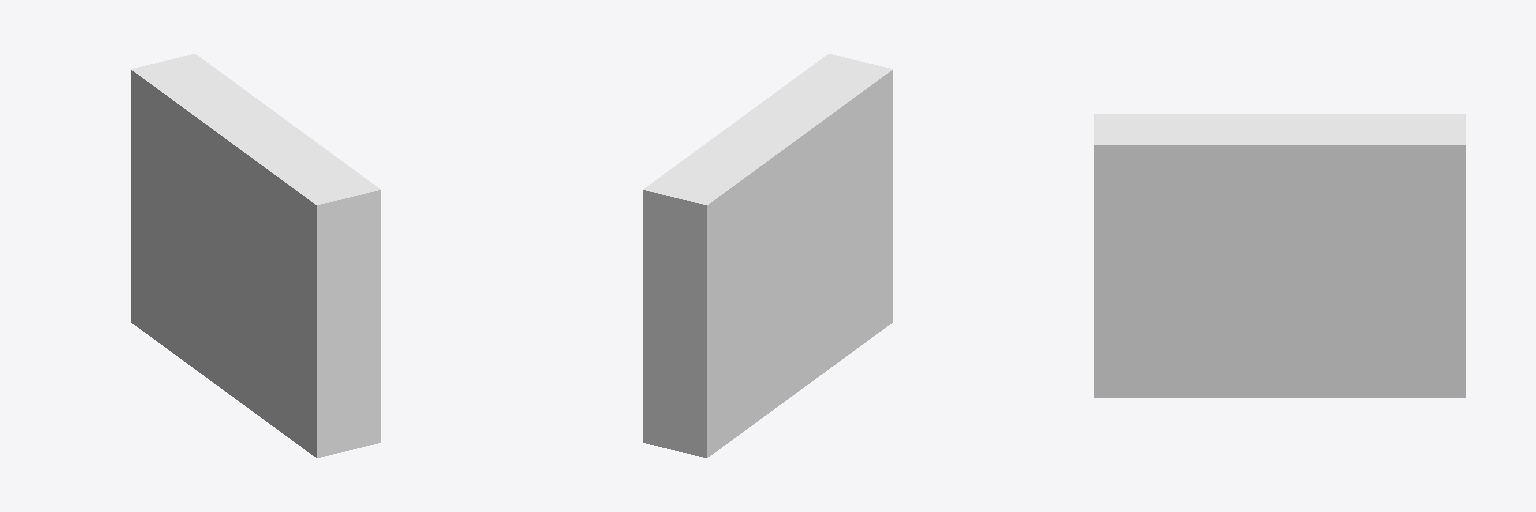
Rendered from nature-wallside.obj.
3 renders of one model, left to right at view 1: azimuth 30°, elevation 25°; view 2: azimuth 150°, elevation 25°; view 3: azimuth 270°, elevation 25°, orthographic.
Parts seen in each view (by area): view 1: nature-wallside; view 2: nature-wallside; view 3: nature-wallside.
Boxes of the visible parts, x1=… form: nature-wallside: x1=131, y1=54, x2=380, y2=457; nature-wallside: x1=643, y1=54, x2=892, y2=457; nature-wallside: x1=1094, y1=114, x2=1465, y2=397.
Bounding box in the file's own units: 4 × 15 × 20.